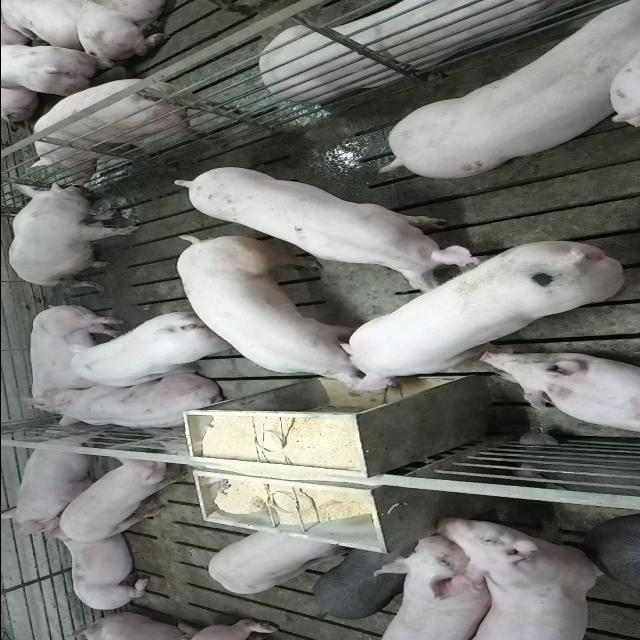Feeding: (341, 238, 625, 394), (168, 231, 380, 391)
Lateral_lying: (15, 304, 124, 416)
Sitting: (6, 180, 140, 286), (0, 435, 99, 536)
Standing: (374, 5, 634, 184), (173, 161, 482, 286), (430, 514, 609, 638), (29, 80, 238, 184), (64, 311, 238, 388), (368, 537, 493, 640), (59, 453, 193, 542), (207, 528, 343, 596), (312, 544, 408, 620), (582, 516, 638, 606)
Sternal_lying: (260, 0, 591, 100), (482, 352, 640, 436), (50, 524, 154, 612)
